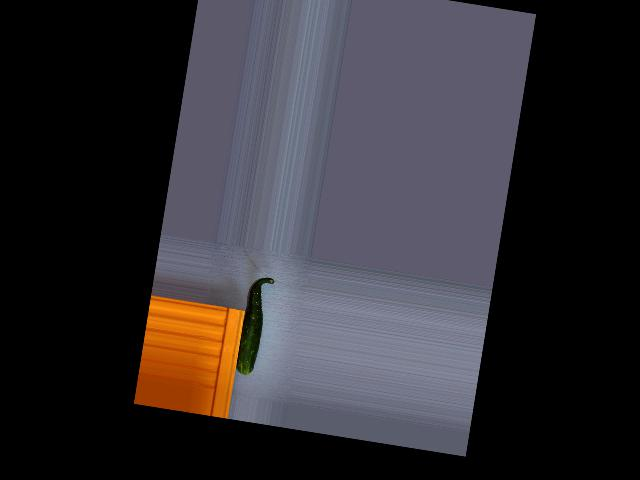cucumber: (234, 274, 275, 376)
